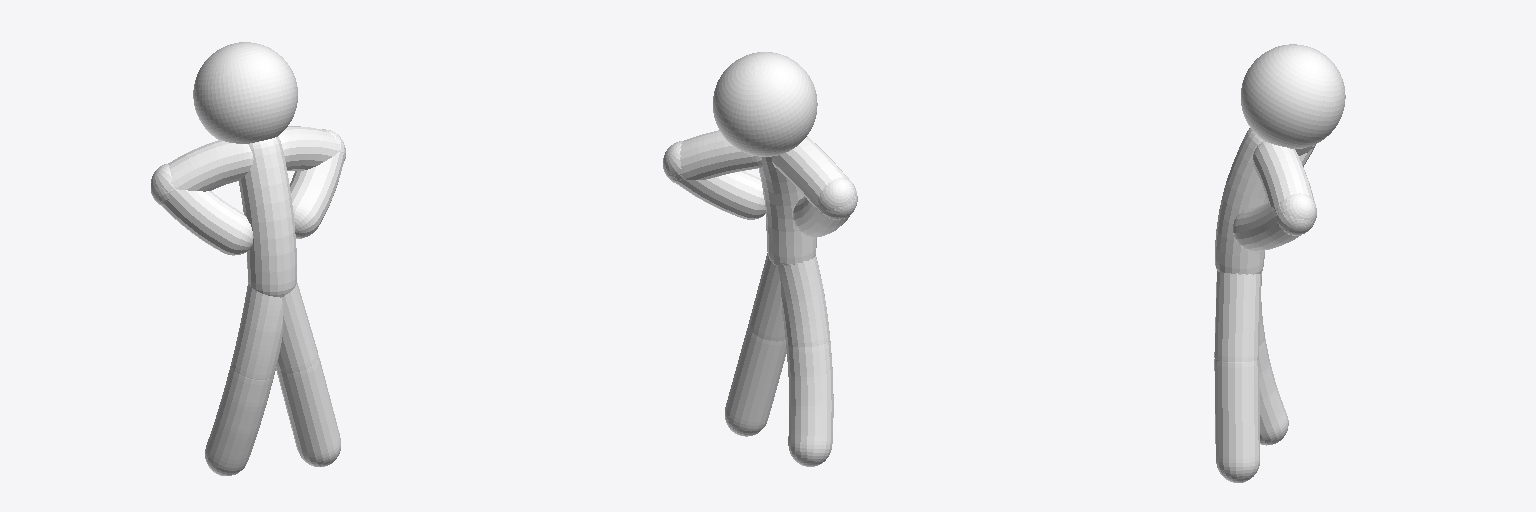
File: player.obj
The picture shows the model from 3 angles: view 1: azimuth 30°, elevation 25°; view 2: azimuth 150°, elevation 25°; view 3: azimuth 270°, elevation 25°; orthographic projection.
Parts seen in each view (by area): view 1: Sketchfab_Mesh_Sphere.006; view 2: Sketchfab_Mesh_Sphere.006; view 3: Sketchfab_Mesh_Sphere.006.
Boxes of the visible parts, <box> form: Sketchfab_Mesh_Sphere.006: <box>151,42,345,475</box>; Sketchfab_Mesh_Sphere.006: <box>663,52,857,466</box>; Sketchfab_Mesh_Sphere.006: <box>1214,44,1345,482</box>.
Size of the model in its own units: 4.13 by 8.54 by 2.48.